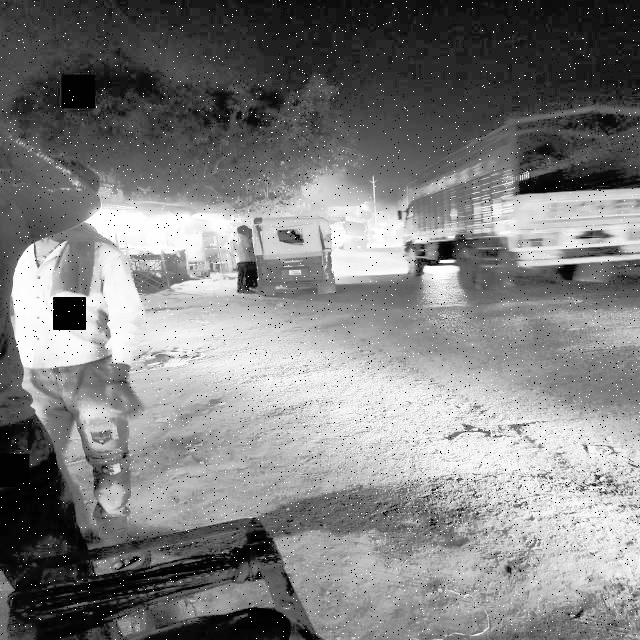Auto-Rickshaw: (243, 216, 341, 298)
